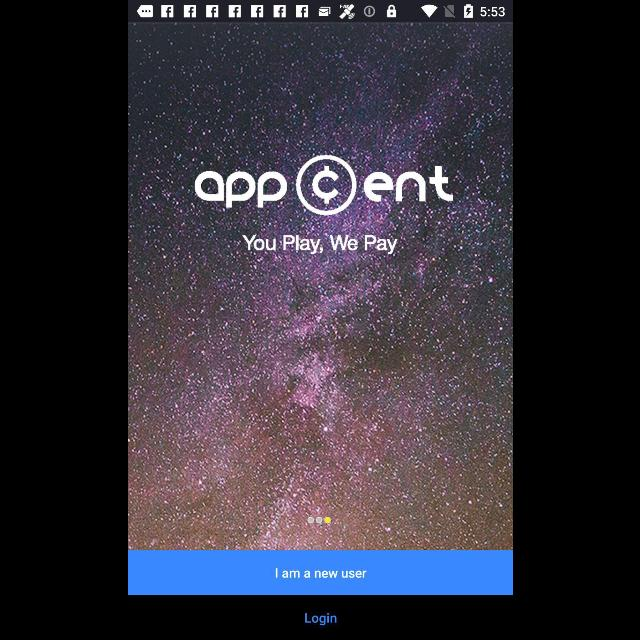backgroundimage: (128, 22, 512, 550)
image: (192, 155, 453, 217)
pageindicator: (306, 516, 330, 524)
text: (241, 234, 397, 256)
textbutton: (128, 551, 512, 595), (128, 596, 512, 640)
uppertaskbar: (128, 1, 512, 23)
